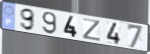4: (106, 21, 123, 46), (63, 15, 79, 38)
7: (127, 23, 144, 49)
9: (41, 11, 58, 36), (19, 9, 37, 32)
Z: (82, 18, 102, 43)
